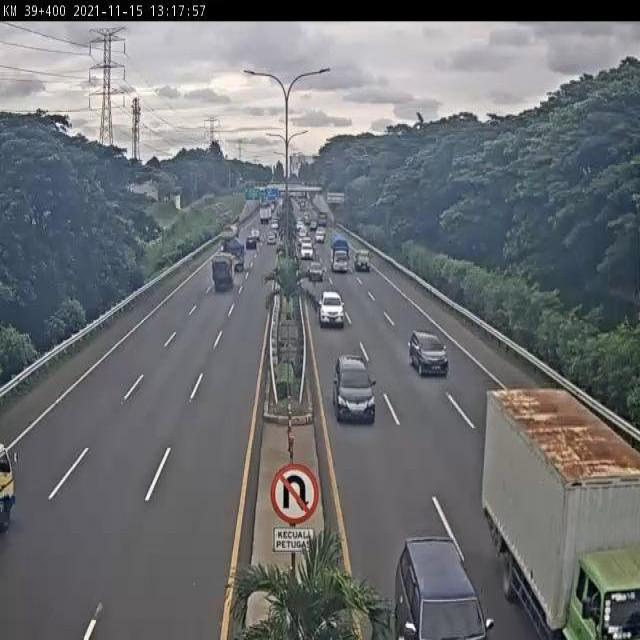car: (332, 356, 376, 424), (411, 331, 452, 378), (315, 281, 343, 323), (308, 260, 326, 283)
truck-m-: (485, 386, 640, 640), (212, 254, 236, 294), (221, 239, 245, 276), (330, 234, 350, 274)
truck-s-: (353, 245, 372, 272)
